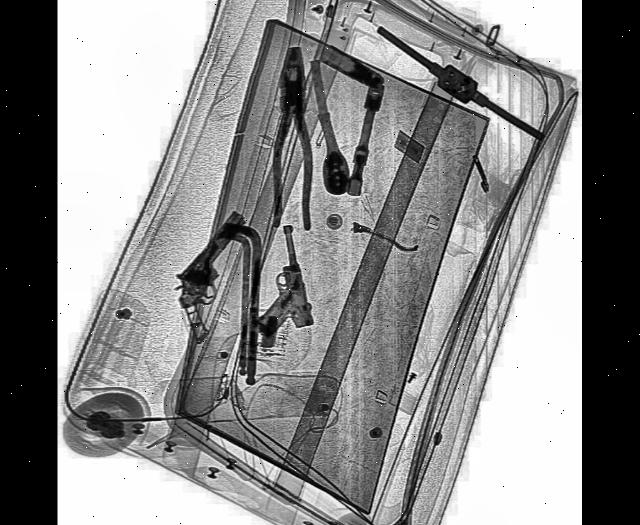Gun: (164, 204, 271, 342), (240, 220, 312, 341)
Pliers: (270, 45, 313, 230)
